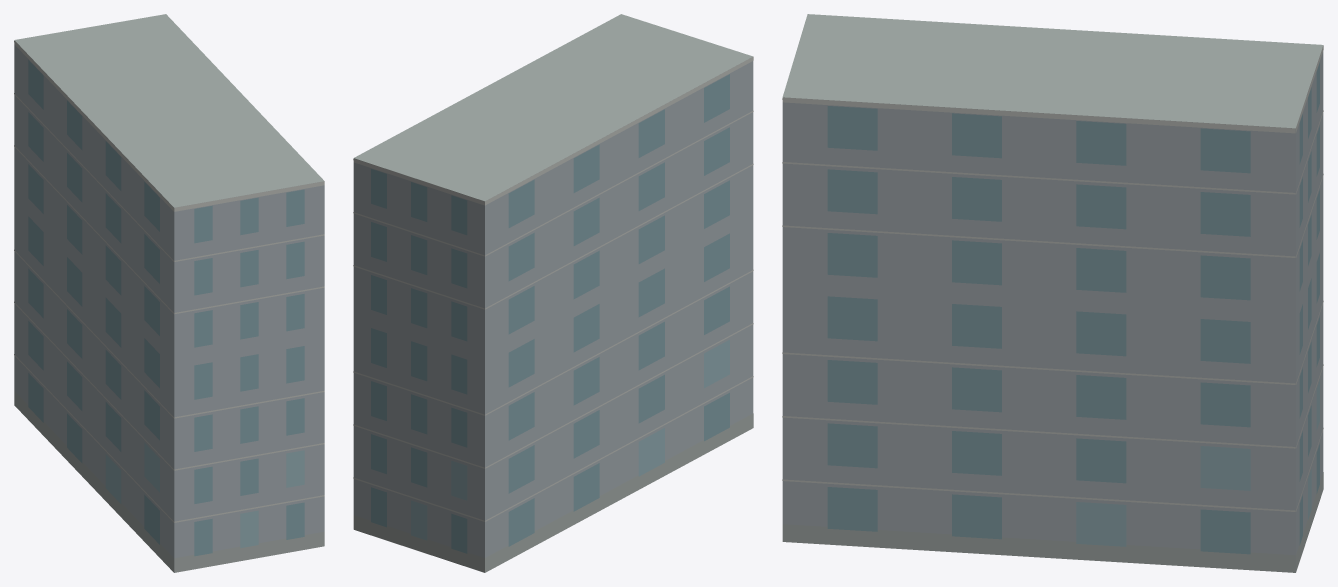
File: residential-055b85d9-d291-43d3-918b-e0db6ae66a59.glb
The picture shows the model from 3 angles, left to right: view 1: azimuth 30°, elevation 25°; view 2: azimuth 150°, elevation 25°; view 3: azimuth 270°, elevation 25°; orthographic projection. The views are drawn at different scales.
Visible parts, largest first — view 1: residential-055b85d9-d291-43d3-918b-e0db6ae66a59.tmp; view 2: residential-055b85d9-d291-43d3-918b-e0db6ae66a59.tmp; view 3: residential-055b85d9-d291-43d3-918b-e0db6ae66a59.tmp.
Part boxes in pixels (x1,y1,x2,y2): residential-055b85d9-d291-43d3-918b-e0db6ae66a59.tmp: (14, 14, 324, 572); residential-055b85d9-d291-43d3-918b-e0db6ae66a59.tmp: (353, 14, 753, 572); residential-055b85d9-d291-43d3-918b-e0db6ae66a59.tmp: (782, 14, 1323, 572).
Size of the model in its own units: 11.8 by 21.35 by 23.57.
